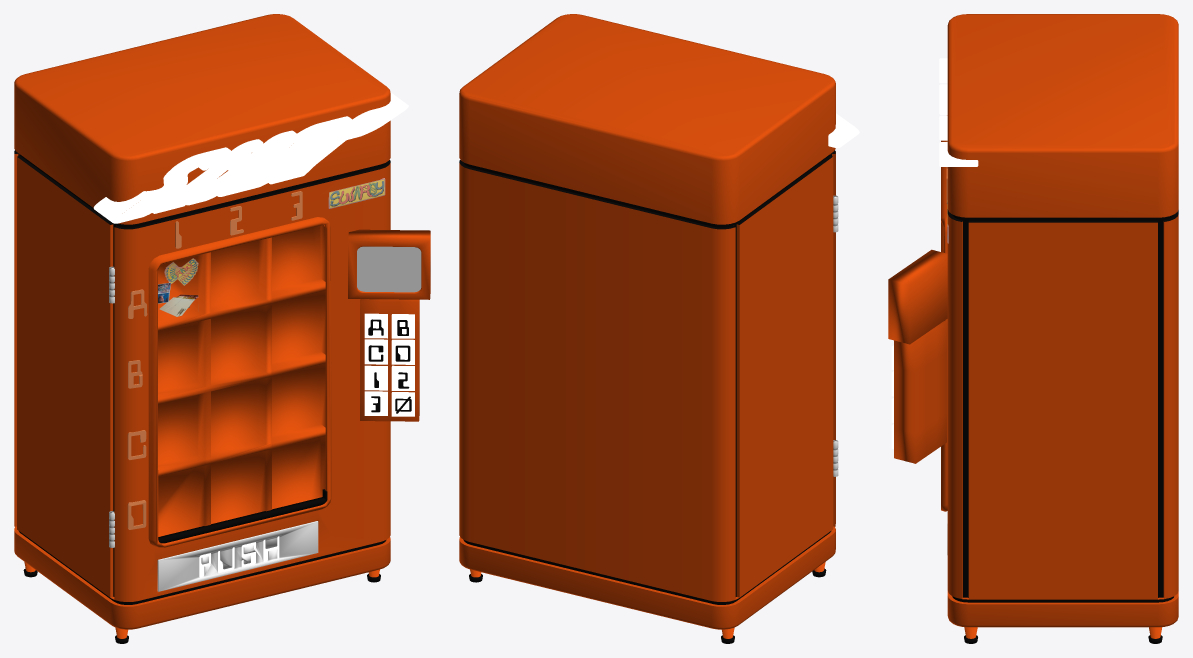
File: 3 vending machine.glb
3 renders of one model, left to right at view 1: azimuth 30°, elevation 25°; view 2: azimuth 150°, elevation 25°; view 3: azimuth 270°, elevation 25°, orthographic.
Parts seen in each view (by area): view 1: Chassis, shop.sign, push.door, Screen.Chassis, SCREEN, Keypad.Chassis, ARM, A1, swardy, push.door.001; view 2: Chassis, shop.sign; view 3: Chassis, Keypad.Chassis, Screen.Chassis, shop.sign, feet.
Part boxes in pixels (x1,y1,x2,y2): Chassis: [14, 14, 390, 629]; shop.sign: [93, 92, 408, 223]; push.door: [157, 521, 318, 591]; Screen.Chassis: [348, 229, 430, 299]; SCREEN: [357, 246, 421, 292]; Keypad.Chassis: [360, 299, 419, 421]; ARM: [158, 489, 327, 543]; A1: [158, 258, 198, 316]; swardy: [328, 178, 385, 208]; push.door.001: [199, 536, 279, 577]; Chassis: [459, 14, 835, 629]; shop.sign: [828, 113, 859, 147]; Chassis: [941, 14, 1178, 627]; Keypad.Chassis: [894, 321, 946, 463]; Screen.Chassis: [888, 249, 947, 344]; shop.sign: [939, 58, 978, 166]; feet: [964, 627, 1162, 643].
Size of the model in its own units: 2.72 by 4.21 by 2.23.
Materials: 10 (2 with a texture image).
